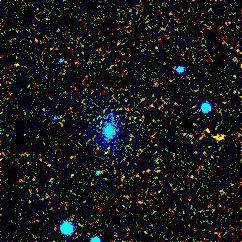star: (204, 124, 234, 154)
